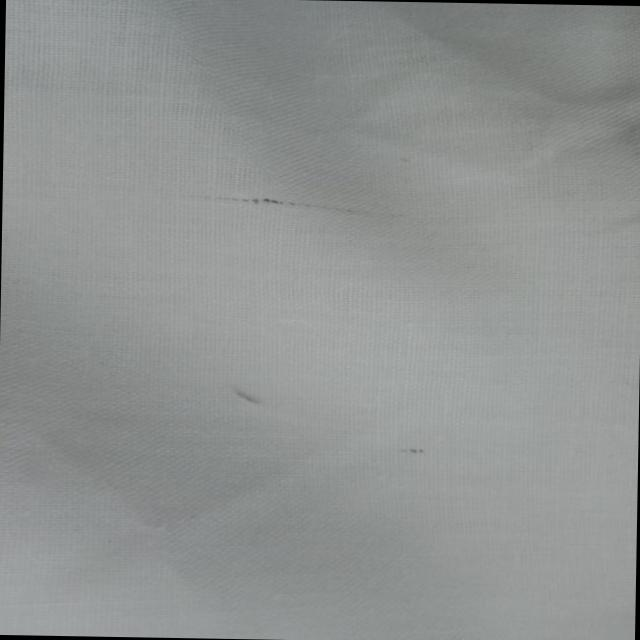contamination: (197, 188, 406, 222), (220, 382, 278, 412), (385, 440, 440, 463)
